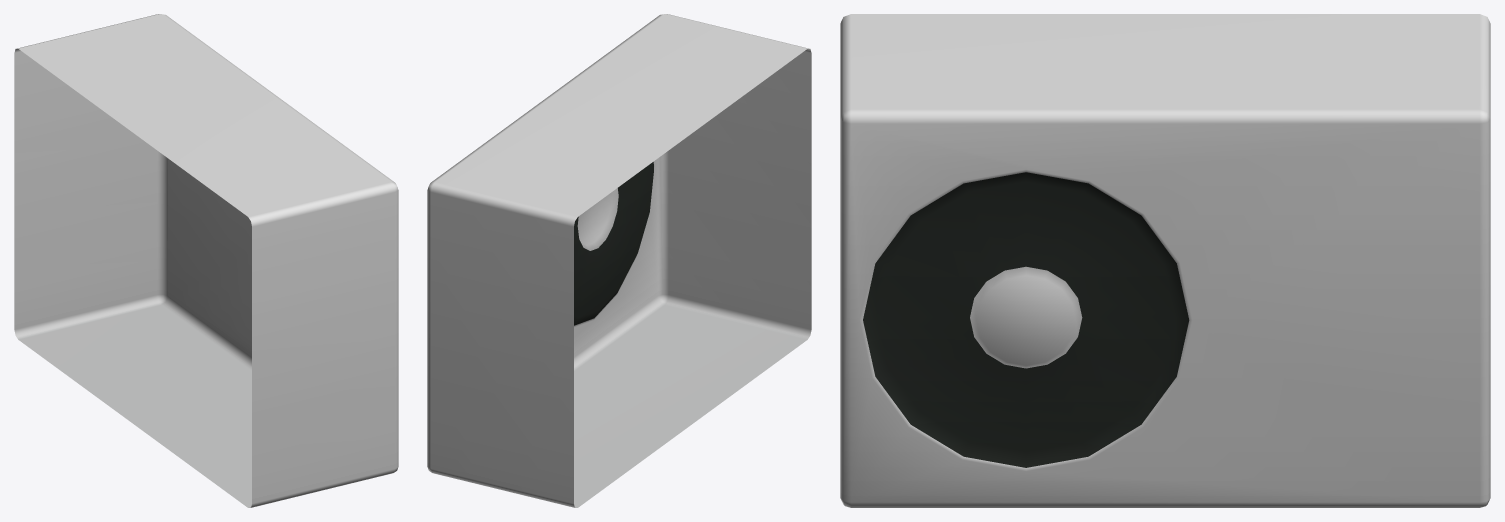
The model's file is SM_vent.fbx.
The picture shows the model from 3 angles, left to right: view 1: azimuth 30°, elevation 25°; view 2: azimuth 150°, elevation 25°; view 3: azimuth 270°, elevation 25°; orthographic projection. The views are drawn at different scales.
Visible parts, largest first — view 1: SM_vent; view 2: SM_vent; view 3: SM_vent.
Boxes of the visible parts, x1,y1,x2,y2 form: SM_vent: (14, 14, 398, 507); SM_vent: (427, 14, 811, 507); SM_vent: (840, 14, 1490, 507).
Bounding box in the file's own units: 30.68 × 56.41 × 83.52.
